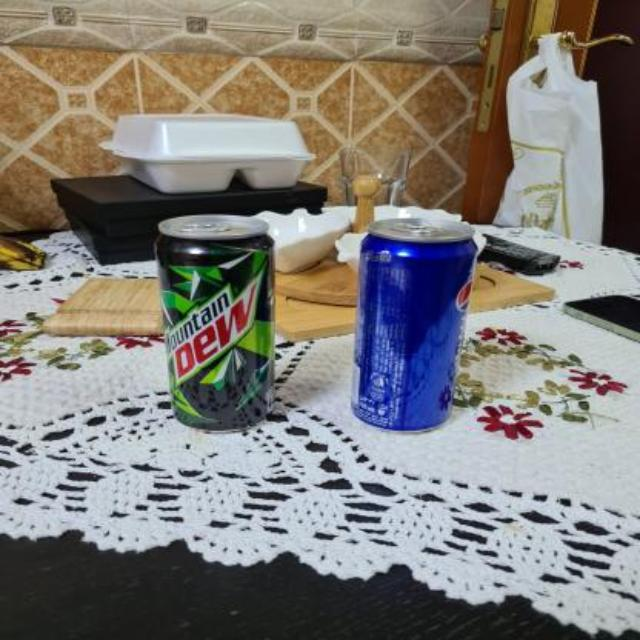metal: (351, 220, 478, 431), (155, 215, 274, 431)
